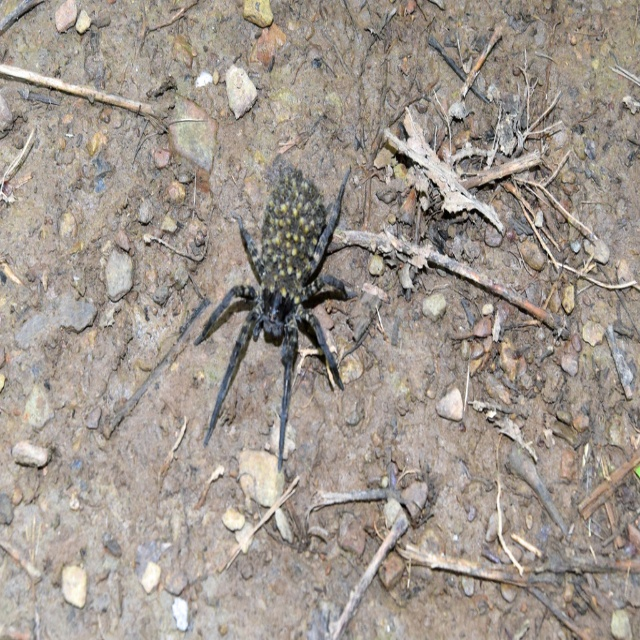Spider: (193, 164, 359, 473)
